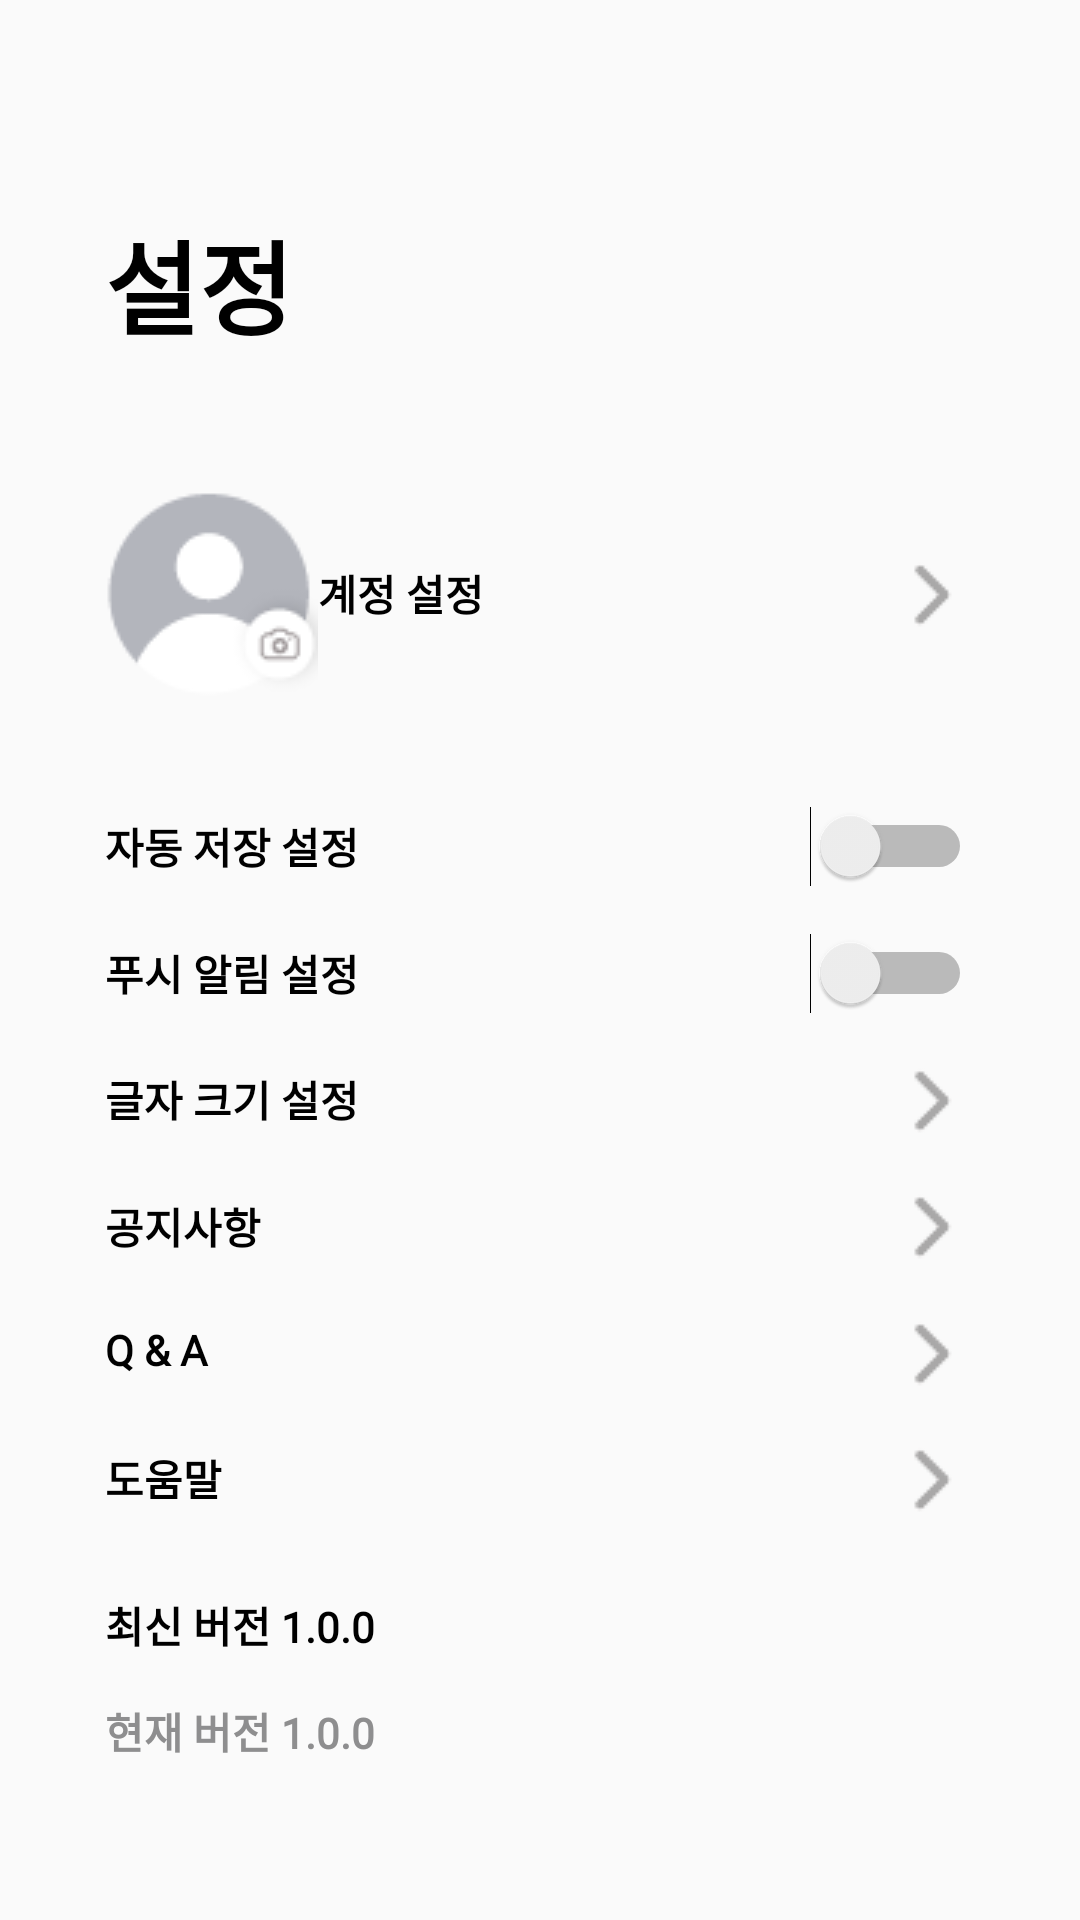

Screen size 1080×1920. Icon name, then its box in pixels as (x1, y1, x2, y2):
profile: (109, 494, 310, 663)
